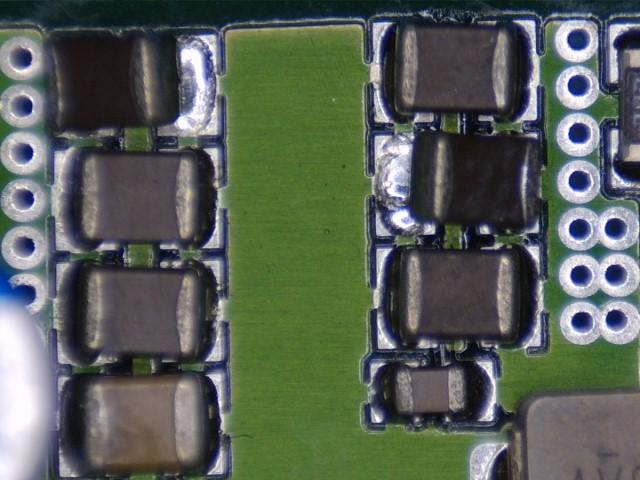Incorrect_installation: (45, 32, 223, 140), (374, 132, 542, 238)
